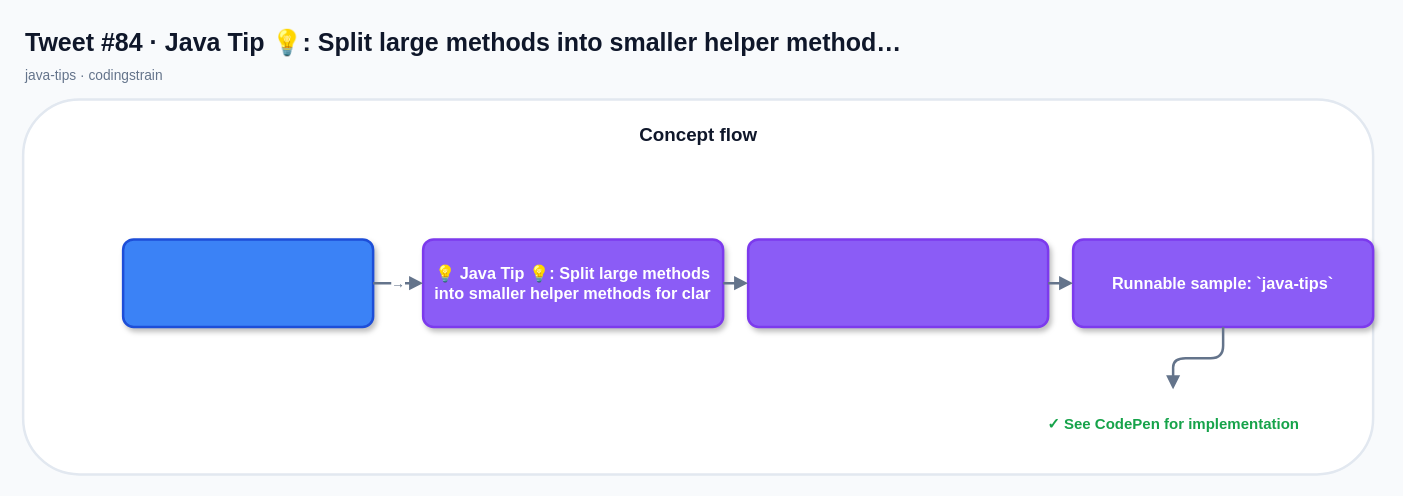
This 1403x496 diagram has some shape labels left out. The centre of each missing label's shape, as x and y in pixels:
Java Tip 💡: Split large methods into smaller helper methods for clarit: the point at 898,284
Problem / context: the point at 248,284
